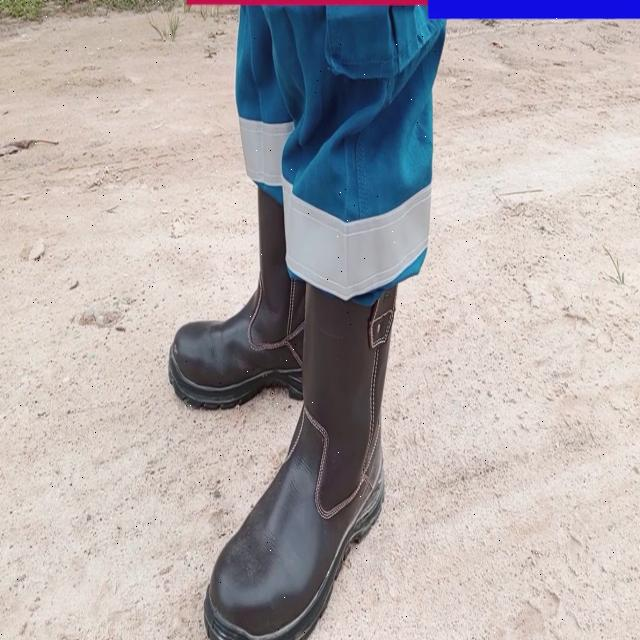Overall Suit: (236, 8, 444, 295)
Safety Boots: (191, 296, 393, 640), (174, 185, 304, 417)
